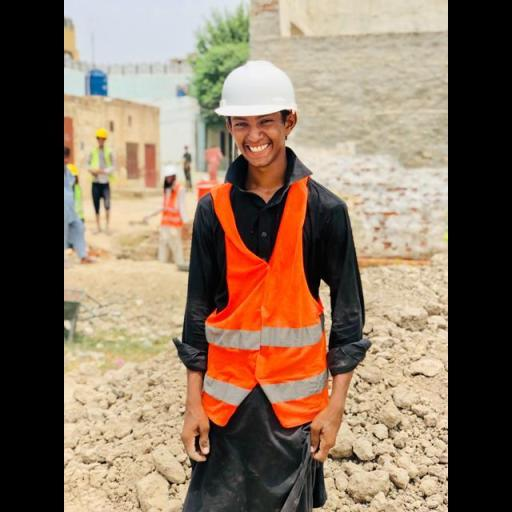Person: (157, 28, 369, 508)
helmet: (210, 56, 300, 124)
vest: (200, 176, 334, 434)
